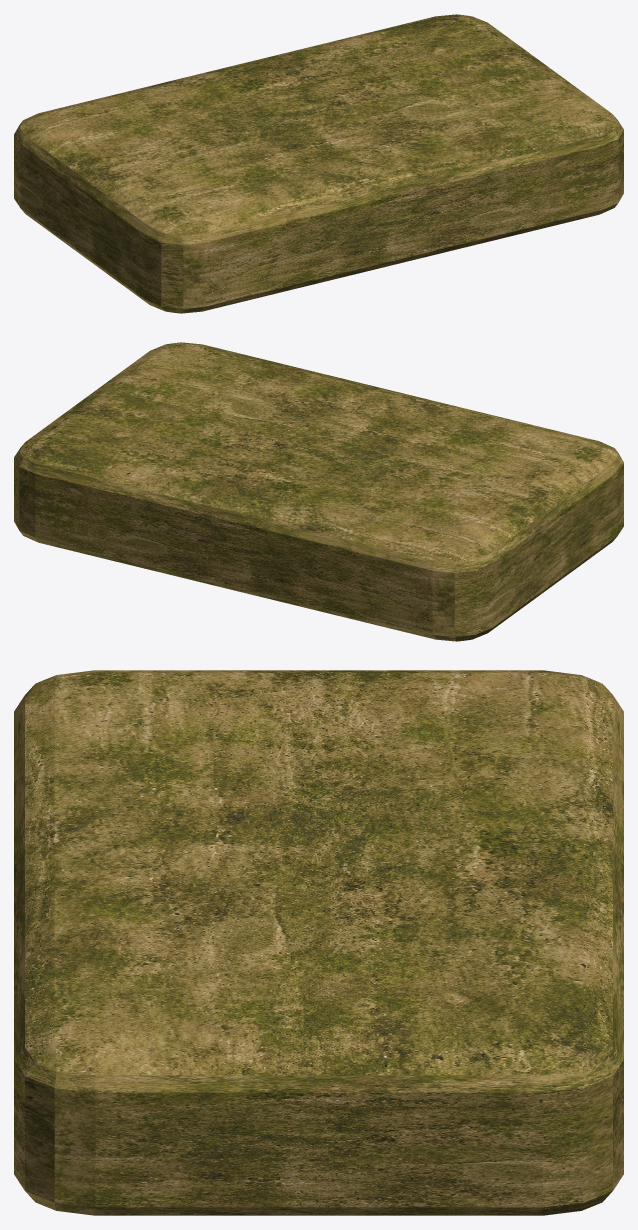
The model's file is BriqueToit.glb.
3 views of the same model, one above another, from view 1: azimuth 30°, elevation 25°; view 2: azimuth 150°, elevation 25°; view 3: azimuth 270°, elevation 25° (orthographic). The views are drawn at different scales.
Parts seen in each view (by area): view 1: BriqueToit; view 2: BriqueToit; view 3: BriqueToit.
Boxes of the visible parts, box(x1,y1,x2,y2) form: BriqueToit: box(14, 14, 623, 313); BriqueToit: box(14, 342, 623, 641); BriqueToit: box(14, 670, 623, 1215).
Size of the model in its own units: 8.5 by 1.59 by 5.29.
1 material, 1 textured.
